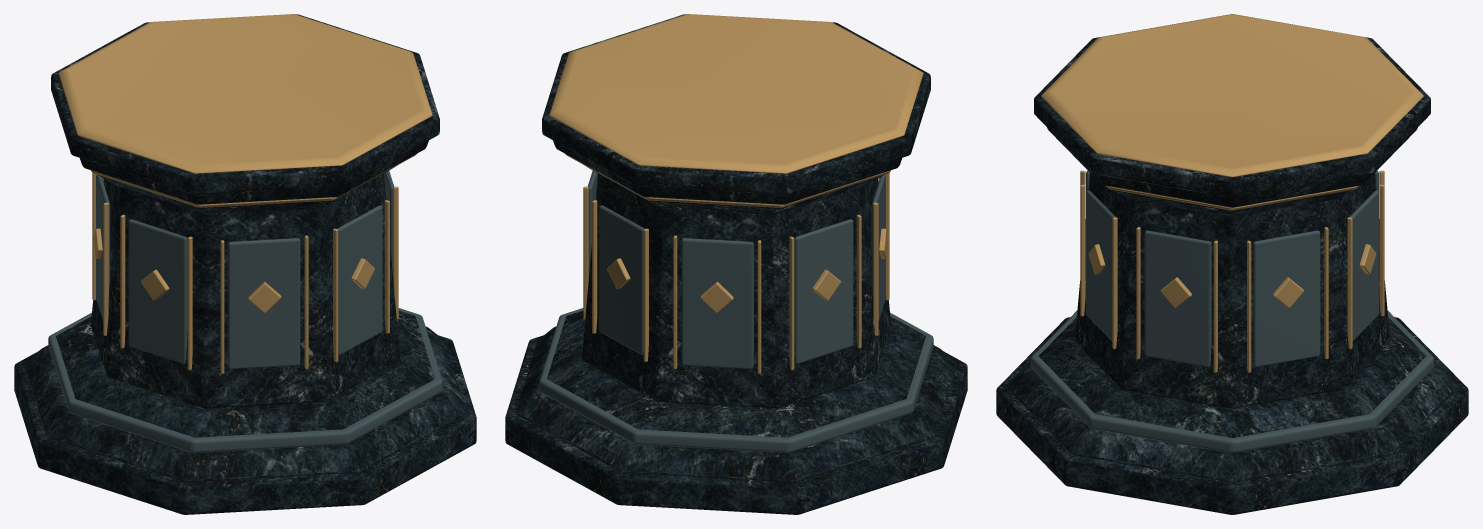
File: gallery-plinth.glb
3 views of the same model, side by side, from view 1: azimuth 30°, elevation 25°; view 2: azimuth 150°, elevation 25°; view 3: azimuth 270°, elevation 25° (orthographic).
Visible parts, largest first — view 1: gallery-plinth — Blue limestone, gallery-plinth — Worn champagne brass, gallery-plinth — Recessed slate; view 2: gallery-plinth — Blue limestone, gallery-plinth — Worn champagne brass, gallery-plinth — Recessed slate; view 3: gallery-plinth — Blue limestone, gallery-plinth — Worn champagne brass, gallery-plinth — Recessed slate.
Boxes of the visible parts, box(x1,y1,x2,y2) form: gallery-plinth — Blue limestone: box(14, 14, 476, 514); gallery-plinth — Worn champagne brass: box(58, 14, 432, 373); gallery-plinth — Recessed slate: box(48, 171, 442, 452); gallery-plinth — Blue limestone: box(505, 14, 967, 514); gallery-plinth — Worn champagne brass: box(549, 14, 923, 373); gallery-plinth — Recessed slate: box(539, 171, 933, 452); gallery-plinth — Blue limestone: box(996, 14, 1468, 514); gallery-plinth — Worn champagne brass: box(1041, 14, 1423, 372); gallery-plinth — Recessed slate: box(1031, 170, 1433, 452).
Bounding box in the file's own units: 1.63 × 1.24 × 1.63.
Materials: 3 (1 with a texture image).
